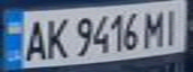1: (109, 10, 127, 53)
4: (90, 11, 112, 55)
6: (121, 8, 145, 52)
9: (69, 12, 93, 57)
A: (18, 16, 48, 62)
I: (160, 4, 184, 47)
K: (42, 14, 69, 61)
M: (139, 7, 169, 48)
